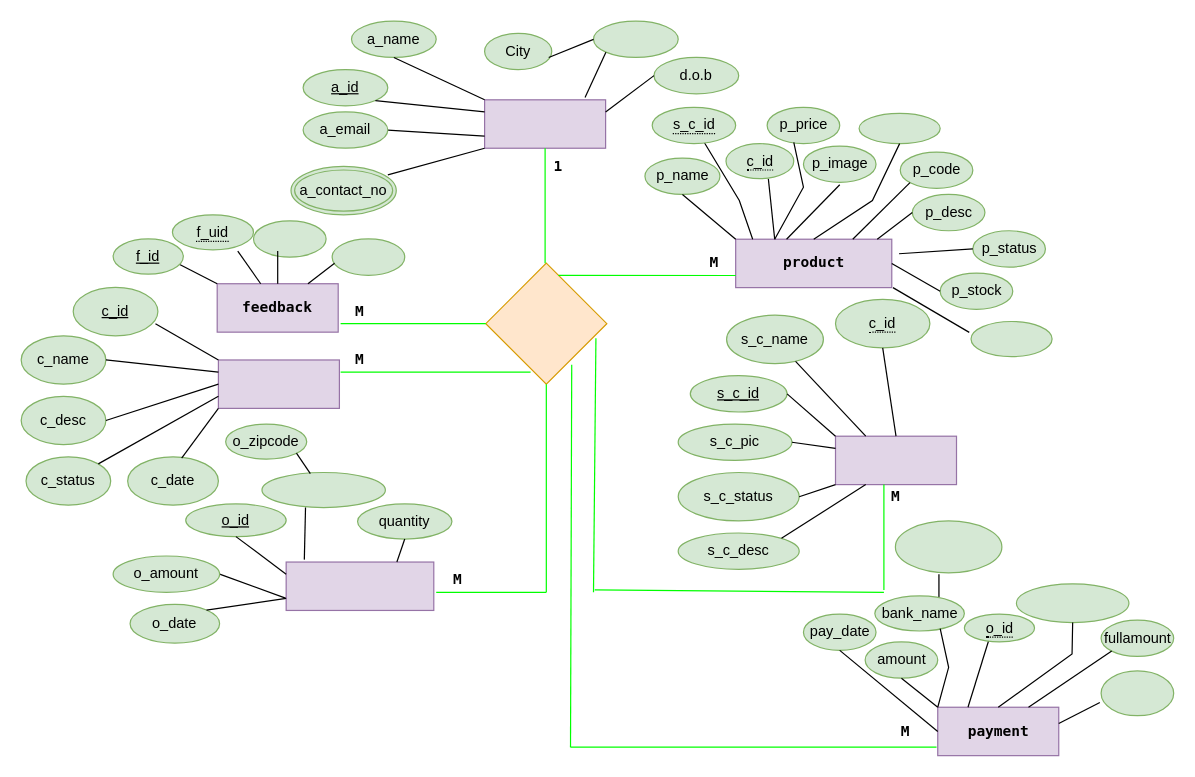
This 1195x777 diagram has some shape labels left out. Here are the shapes that lost their labels. From the top down, the centre of each, then its label:
At pixel 635 38: "address".
At pixel 544 123: "admin".
At pixel 899 128: "p_date".
At pixel 289 238: "f_desc".
At pixel 368 256: "f_date".
At pixel 546 323: "Manage".
At pixel 1011 338: "p_id".
At pixel 278 383: "category".
At pixel 895 460: "sub_category".
At pixel 323 489: "o_ship_address".
At pixel 948 546: "bank_account no".
At pixel 359 585: "order".
At pixel 1072 603: "payment_mode".
At pixel 1137 693: "pay_id".
